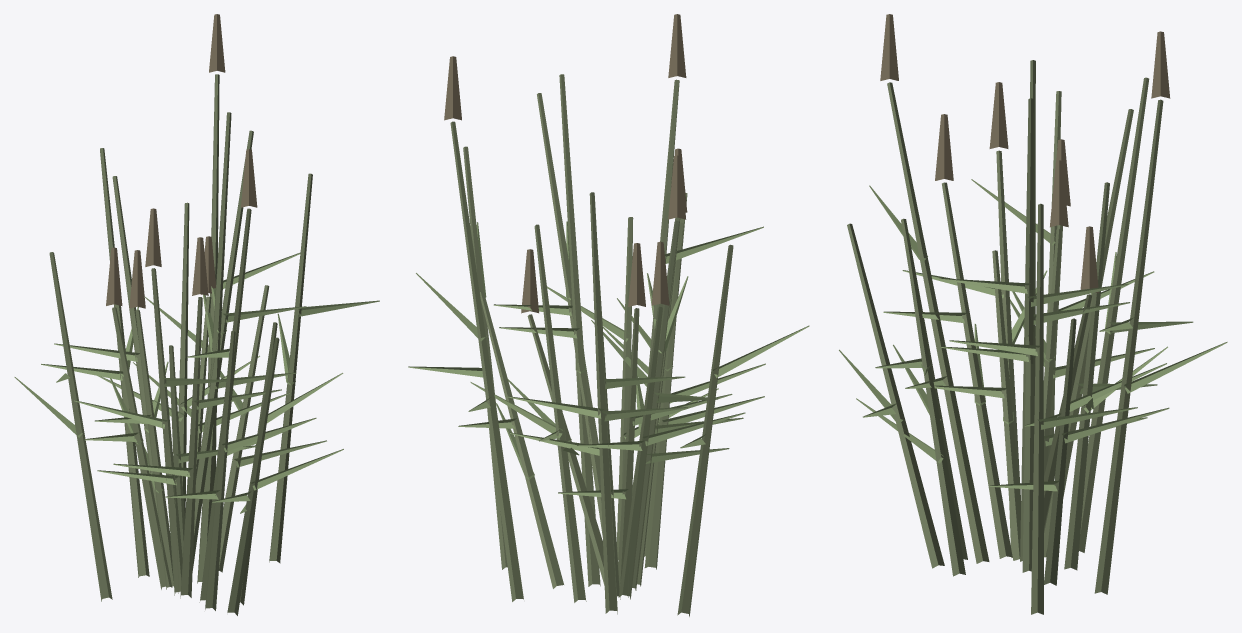
Rendered from taiga_reed.glb.
3 renders of one model, left to right at view 1: azimuth 30°, elevation 25°; view 2: azimuth 150°, elevation 25°; view 3: azimuth 270°, elevation 25°, orthographic. The views are drawn at different scales.
Visible parts, largest first — view 1: taiga_reed; view 2: taiga_reed; view 3: taiga_reed.
Boxes of the visible parts, x1,y1,x2,y2 form: taiga_reed: (14, 14, 379, 615); taiga_reed: (408, 14, 809, 616); taiga_reed: (839, 14, 1227, 614).
Size of the model in its own units: 1.33 by 2.06 by 1.25.
